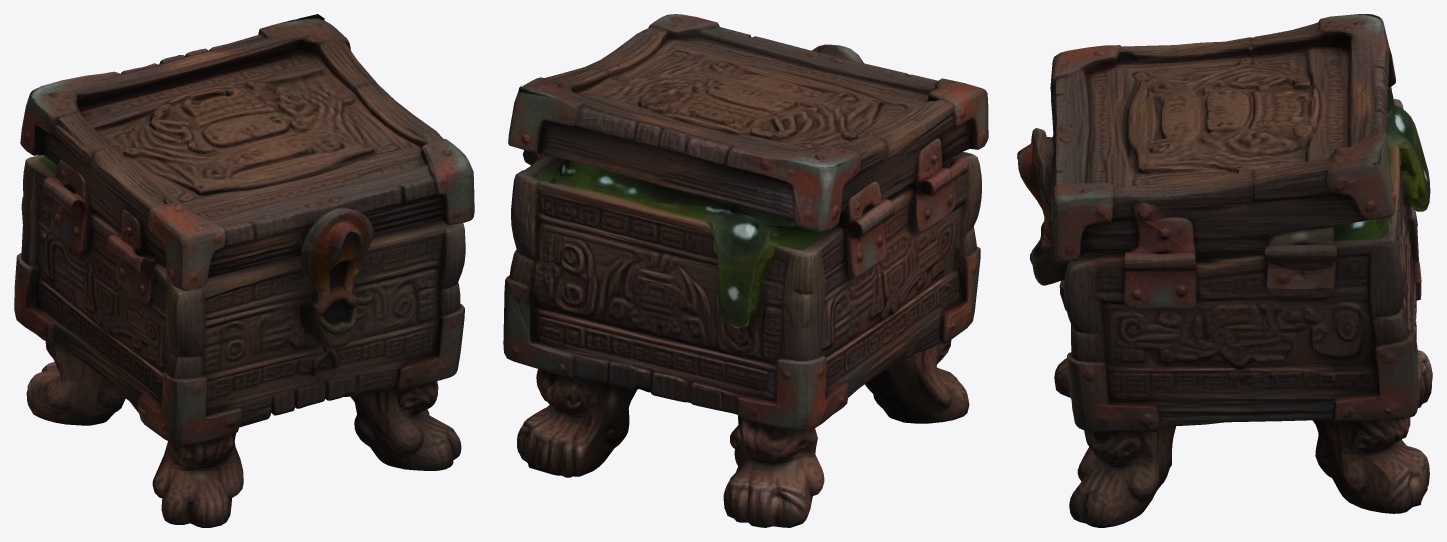
The model's file is gelatinCubeMimic.glb.
3 renders of one model, left to right at view 1: azimuth 30°, elevation 25°; view 2: azimuth 150°, elevation 25°; view 3: azimuth 270°, elevation 25°, orthographic. The views are drawn at different scales.
Visible parts, largest first — view 1: world; view 2: world; view 3: world.
Boxes of the visible parts, x1,y1,x2,y2 form: world: [14, 14, 474, 527]; world: [503, 14, 988, 527]; world: [1017, 14, 1432, 527].
Size of the model in its own units: 0.8893 by 0.9173 by 0.9389.
Materials: 1 (1 with a texture image).
